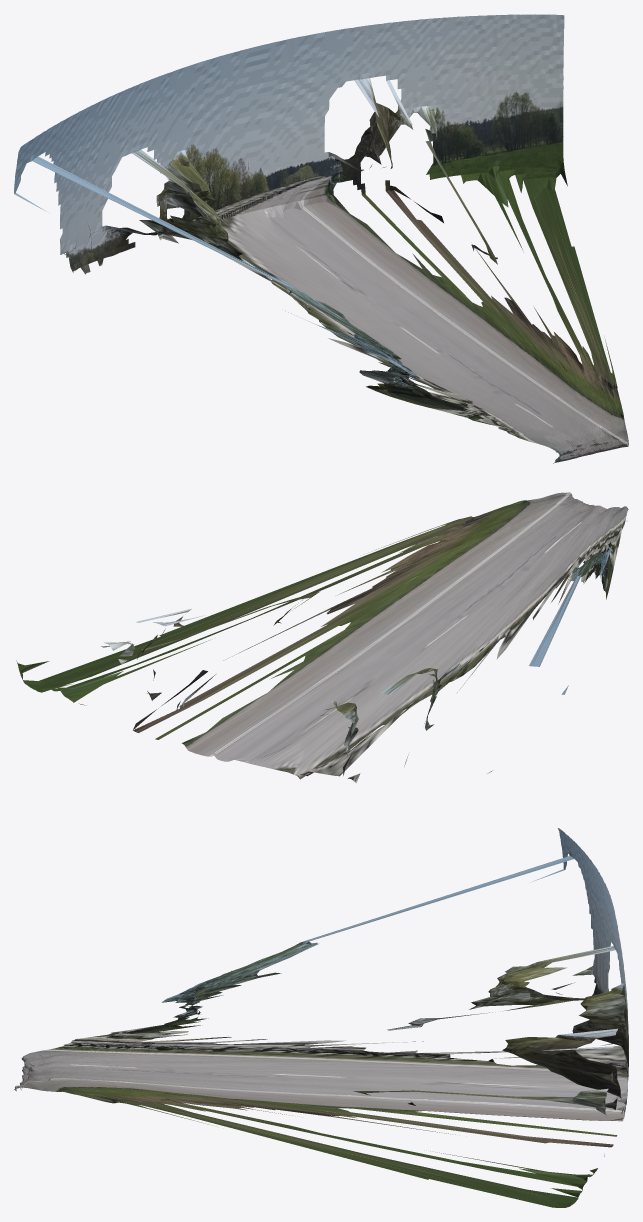
The picture shows the model from 3 angles, top to bottom: view 1: azimuth 30°, elevation 25°; view 2: azimuth 150°, elevation 25°; view 3: azimuth 270°, elevation 25°; orthographic projection. The views are drawn at different scales.
Visible parts, largest first — view 1: defaultobject; view 2: defaultobject; view 3: defaultobject.
Part boxes in pixels (x1,y1,x2,y2): defaultobject: (14, 14, 628, 463); defaultobject: (16, 492, 628, 782); defaultobject: (14, 828, 628, 1207).
Bounding box in the file's own units: 41.03 × 12.84 × 44.69.
Materials: 1 (1 with a texture image).
